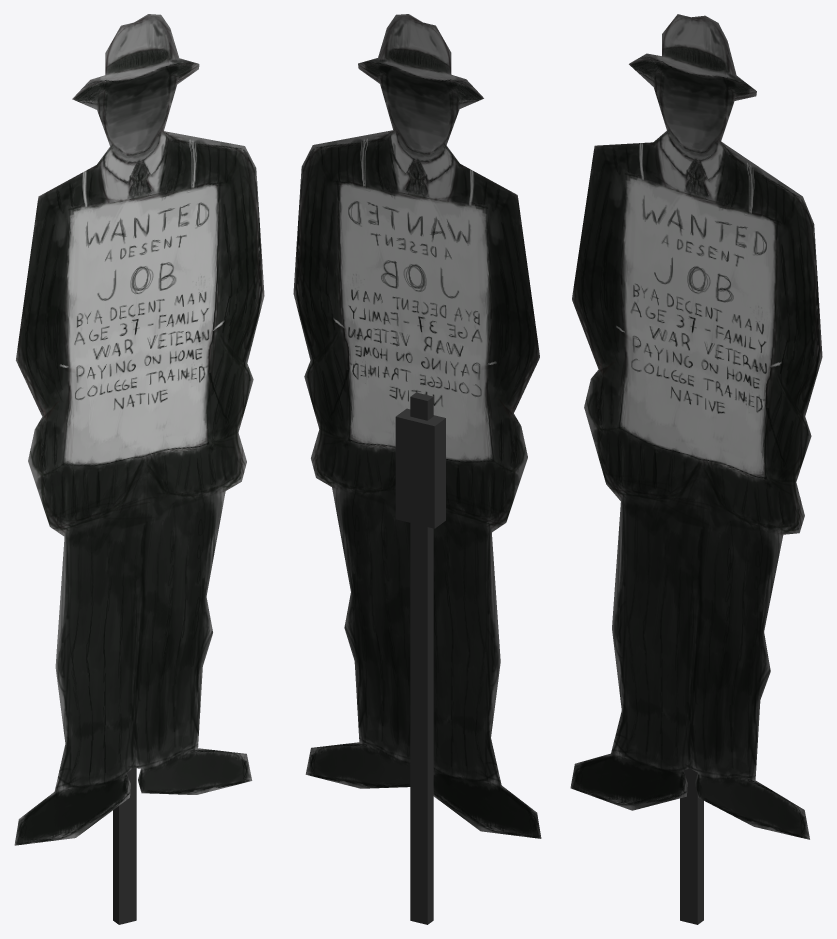
Rendered from Depression_Man1.fbx.
3 views of the same model, side by side, from view 1: azimuth 30°, elevation 25°; view 2: azimuth 150°, elevation 25°; view 3: azimuth 330°, elevation 25° (orthographic).
Visible parts, largest first — view 1: pCube4, pCube3; view 2: pCube4, pCube3, pCube2; view 3: pCube4, pCube3.
Part boxes in pixels (x1,y1,x2,y2): pCube4: [14, 14, 264, 845]; pCube3: [113, 768, 136, 924]; pCube4: [293, 14, 541, 838]; pCube3: [410, 392, 433, 924]; pCube2: [395, 408, 445, 528]; pCube4: [570, 14, 822, 839]; pCube3: [680, 768, 703, 924].
Size of the model in its own units: 0.0166 by 0.0576 by 0.00138.
2 materials, 1 textured.
